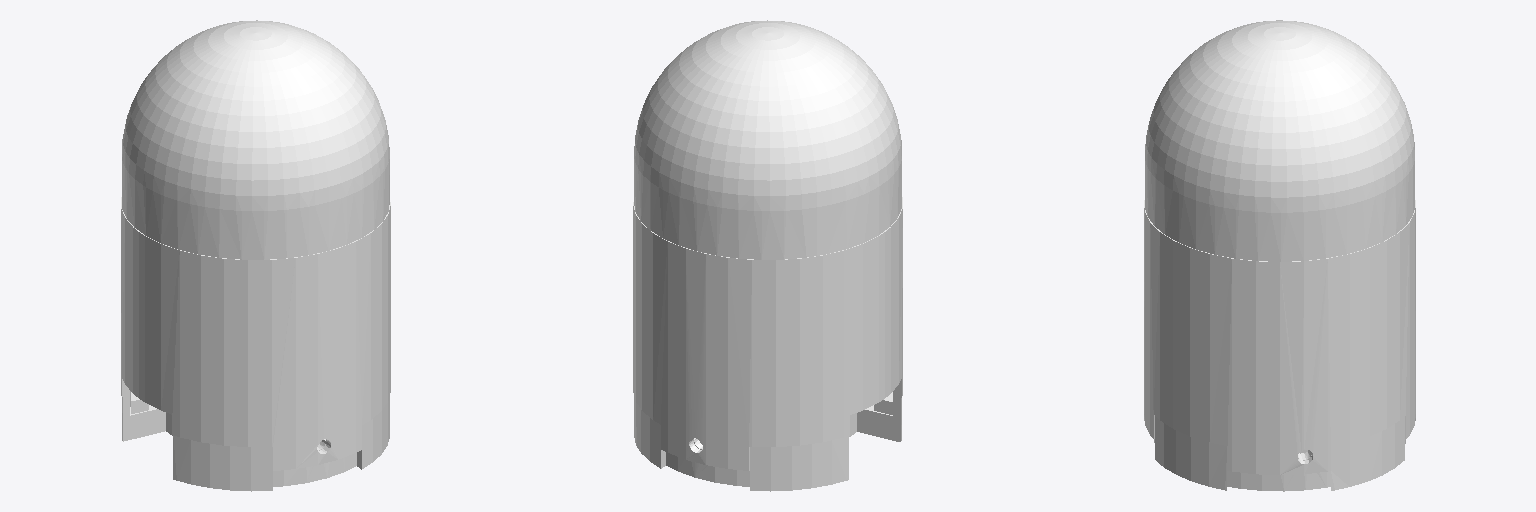
URDF robot description (pptac):
<?xml version="1.0" encoding="utf-8"?>
<!-- This URDF was automatically created by SolidWorks to URDF Exporter! Originally created by Stephen Brawner (brawner@gmail.com) 
     Commit Version: 1.6.0-4-g7f85cfe  Build Version: 1.6.7995.38578
     For more information, please see http://wiki.ros.org/sw_urdf_exporter -->
<robot
  name="pptac">
  <link
    name="base_link">
    <inertial>
      <origin
        xyz="-6.2138015285651E-05 -1.26908776070245E-05 0.0136851202446479"
        rpy="0 0 0" />
      <mass
        value="0.00451744758871871" />
      <inertia
        ixx="7.9681275710165E-07"
        ixy="-1.01113246312862E-09"
        ixz="1.49279392177389E-08"
        iyy="7.54464889763721E-07"
        iyz="-2.37802227410315E-10"
        izz="7.57921486514563E-07" />
    </inertial>
    <visual>
      <origin
        xyz="0 0 0"
        rpy="0 0 0" />
      <geometry>
        <mesh
          filename="../meshes/base_link.STL" />
      </geometry>
      <material
        name="">
        <color
          rgba="1 1 1 1" />
      </material>
    </visual>
    <collision>
      <origin
        xyz="0 0 0"
        rpy="0 0 0" />
      <geometry>
        <mesh
          filename="../meshes/base_link.STL" />
      </geometry>
    </collision>
  </link>
  <link
    name="pptac">
    <inertial>
      <origin
        xyz="1.66533453693773E-16 2.22044604925031E-16 0.00239062500023246"
        rpy="0 0 0" />
      <mass
        value="0.0113097335526099" />
      <inertia
        ixx="8.60994884157874E-07"
        ixy="3.97046694025453E-23"
        ixz="2.84550130718242E-22"
        iyy="8.60994884157874E-07"
        iyz="-2.94476298068878E-22"
        izz="1.11330189658064E-06" />
    </inertial>
    <visual>
      <origin
        xyz="0 0 0"
        rpy="0 0 0" />
      <geometry>
        <mesh
          filename="../meshes/pptac.STL" />
      </geometry>
      <material
        name="">
        <color
          rgba="1 1 1 1" />
      </material>
    </visual>
    <collision>
      <origin
        xyz="0 0 0"
        rpy="0 0 0" />
      <geometry>
        <mesh
          filename="../meshes/pptac.STL" />
      </geometry>
    </collision>
  </link>
  <joint
    name="pptac"
    type="fixed">
    <origin
      xyz="-0.000403181112703876 0 0.0345440838795994"
      rpy="0 0 0" />
    <parent
      link="base_link" />
    <child
      link="pptac" />
    <axis
      xyz="0 0 0" />
  </joint>
</robot>

--- Facts derived from the render (not from the file) ---
The picture shows the robot from 3 angles, left to right: view 1: azimuth 30°, elevation 25°; view 2: azimuth 150°, elevation 25°; view 3: azimuth 270°, elevation 25°; orthographic projection.
Model pptac with 2 links and 1 joints (1 fixed), rooted at base_link, posed all joints at 0.
Visible links, largest first — view 1: base_link, pptac; view 2: base_link, pptac; view 3: base_link, pptac.
Boxes of the visible links, bbox=[...] form: base_link: bbox=[121, 197, 390, 491]; pptac: bbox=[122, 20, 389, 259]; base_link: bbox=[633, 197, 902, 491]; pptac: bbox=[634, 20, 901, 259]; base_link: bbox=[1144, 200, 1415, 491]; pptac: bbox=[1145, 20, 1414, 261].
Size in the robot's own frame: 0.0302 by 0.0302 by 0.0495 metres.
2 mesh visuals loaded from 2 distinct referenced files (2 binary STL).
